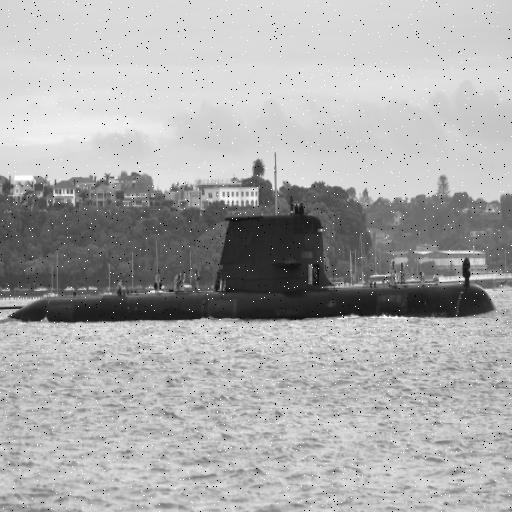submarine: (1, 215, 500, 327)
